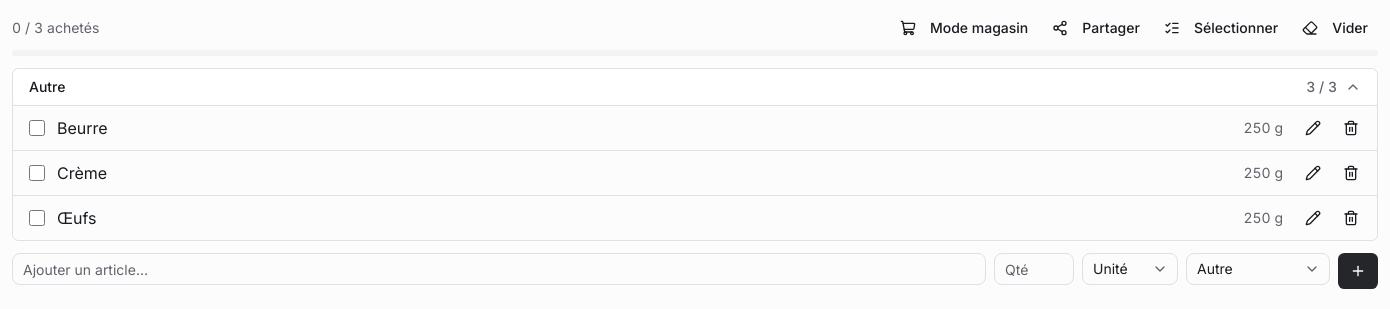
Test: ShoppingListView › retire une sélection avant la réponse du serveur
This screenshot has width=1390, height=309.
Click the button "Sélectionner". click: click(1221, 28)
box: [1154,12,1288,44]
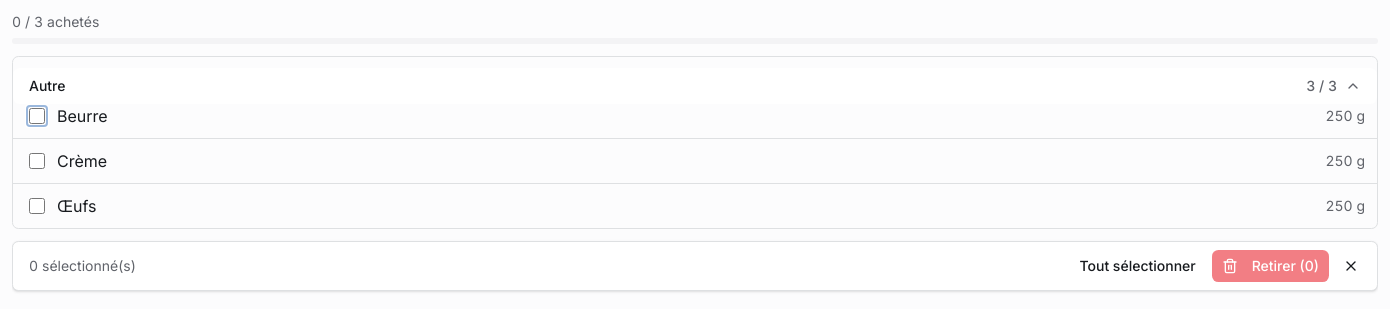
Click the checkbox named "Sélectionner Beurre". click: click(37, 116)
box: [29,108,45,124]
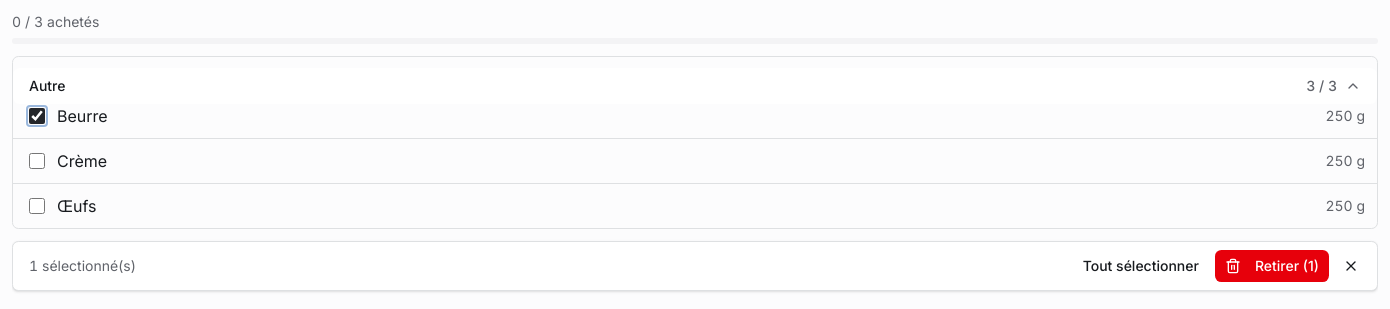
Click the checkbox named "Sélectionner Œufs". click: click(37, 206)
box: [29,198,45,214]
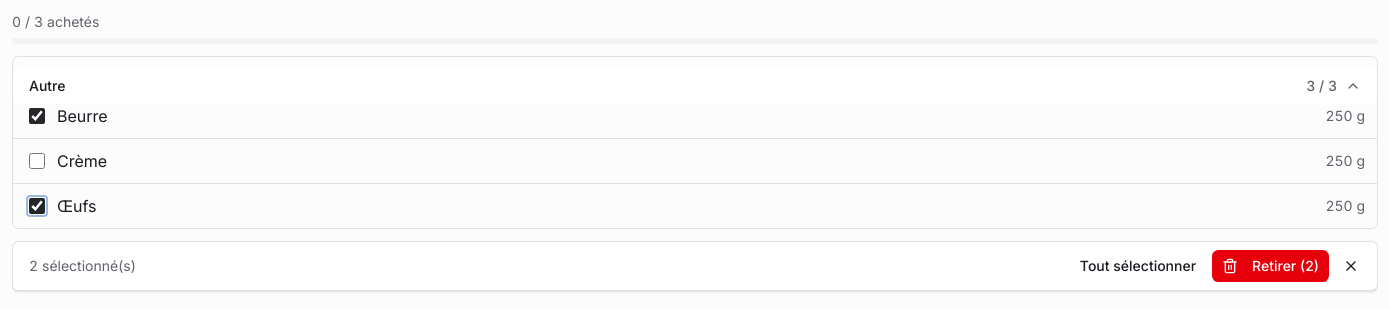
Click the button "Retirer (2)". click: click(1271, 266)
box: [1212,250,1329,282]
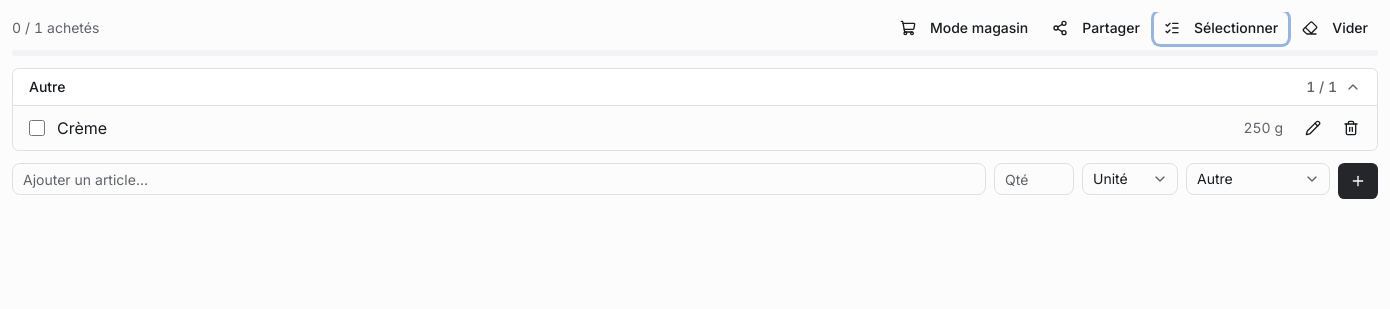
Check: the text "Crème" is shown, box [57,118,107,138]
Check: the text "Beurre" is gone
Check: the text "Œufs" is gone
